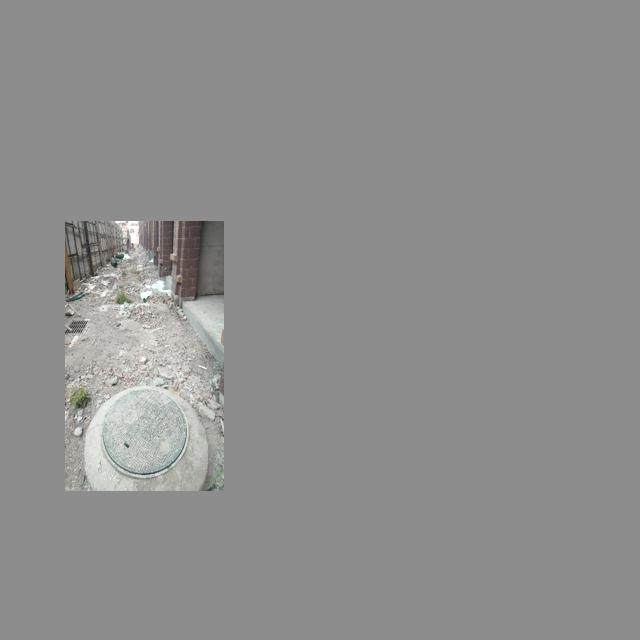good: (100, 389, 188, 479)
